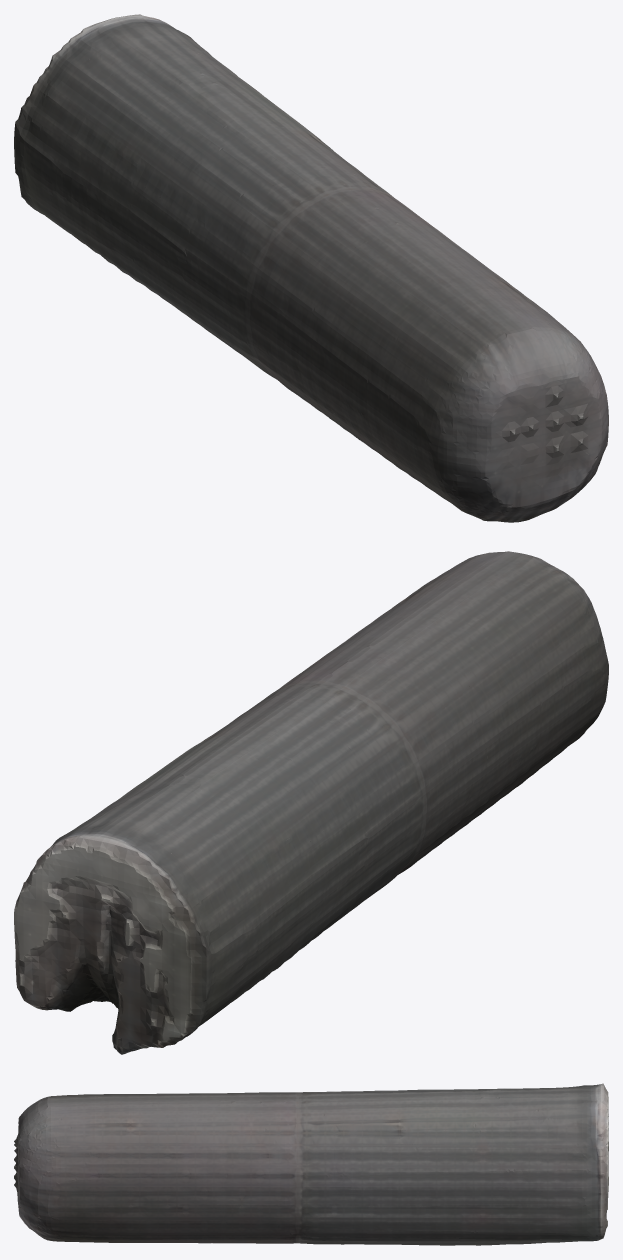
File: 0_rgba.obj
The picture shows the model from 3 angles, top to bottom: view 1: azimuth 30°, elevation 25°; view 2: azimuth 150°, elevation 25°; view 3: azimuth 270°, elevation 25°; orthographic projection. The views are drawn at different scales.
Size of the model in its own units: 0.5126 by 0.5597 by 2.
1 material, 1 textured.
